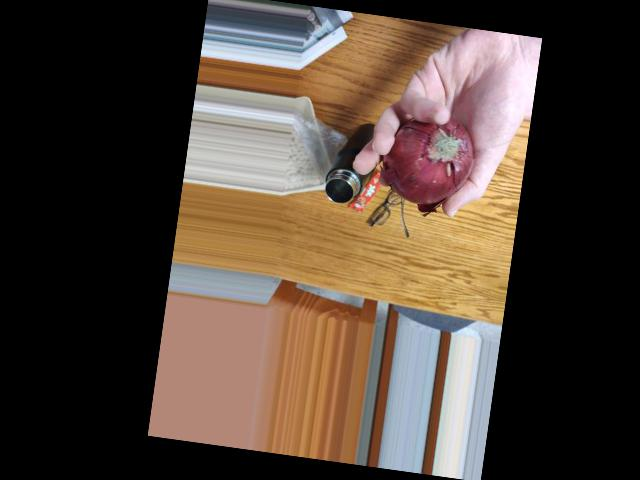onion: (380, 110, 480, 202)
